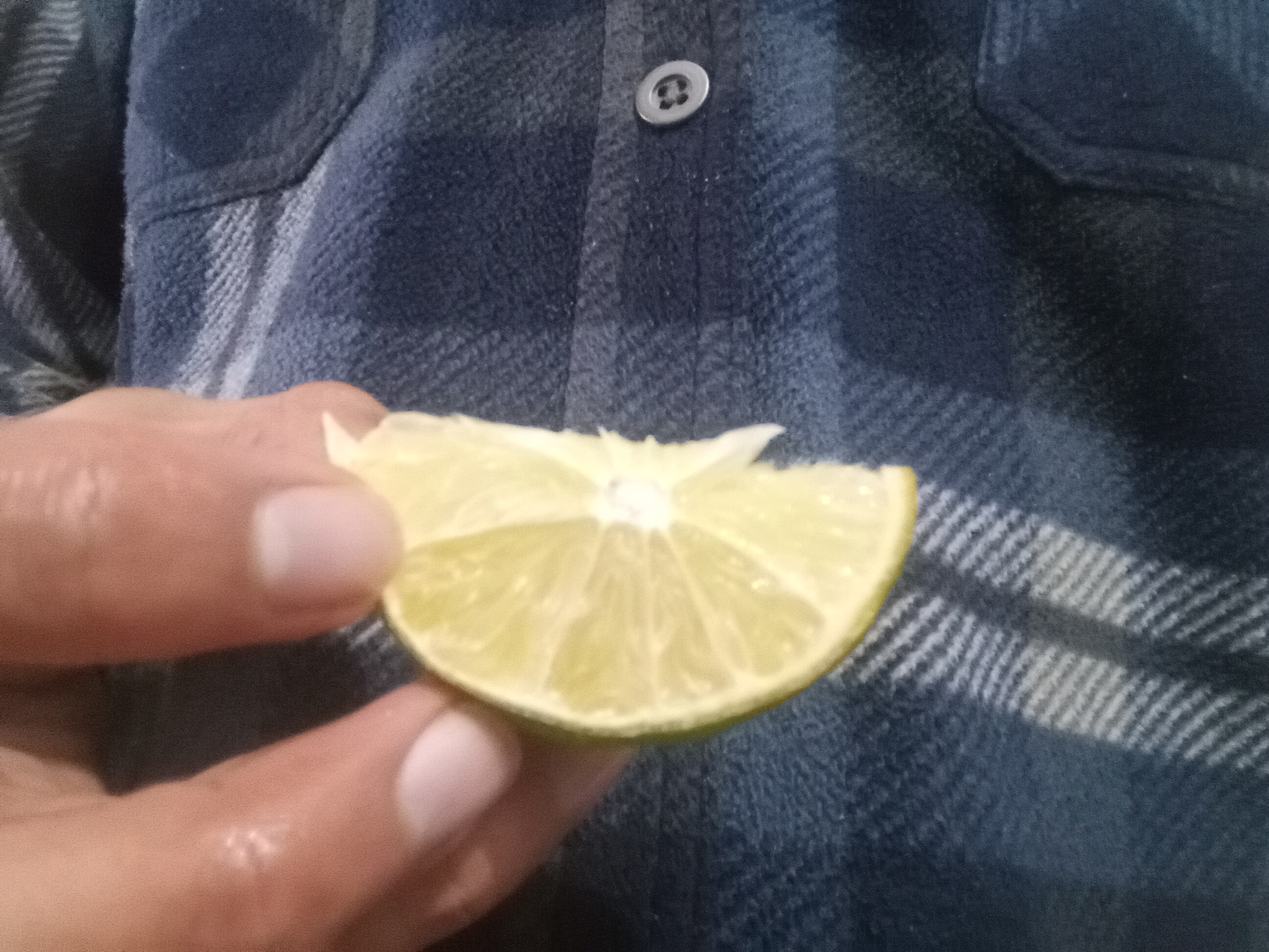Organico: (317, 412, 916, 745)
